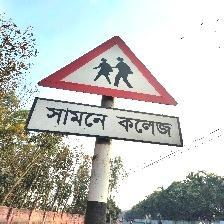College-in-front: (32, 35, 206, 184)
